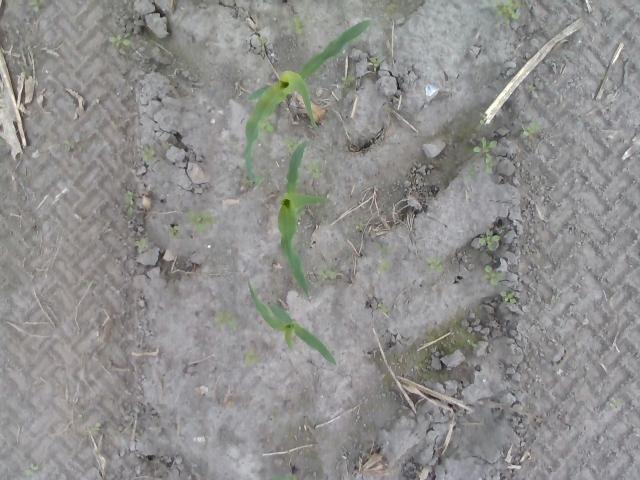Maize: (245, 18, 378, 186), (246, 278, 338, 367), (278, 142, 328, 304)
Weeds: (472, 138, 498, 176), (485, 0, 523, 25), (185, 212, 218, 236), (482, 265, 503, 290), (217, 313, 243, 332), (478, 232, 502, 250), (110, 34, 132, 53), (522, 121, 540, 141), (428, 257, 446, 277), (126, 190, 135, 218), (22, 464, 40, 478), (316, 270, 339, 280), (308, 164, 322, 179), (292, 18, 305, 34), (502, 292, 518, 305), (135, 240, 148, 256), (378, 261, 392, 275), (246, 352, 258, 368), (284, 140, 300, 152), (86, 423, 102, 434), (369, 56, 382, 69), (612, 399, 627, 410), (142, 147, 153, 162), (343, 75, 357, 86), (169, 224, 180, 237), (478, 113, 487, 127), (64, 139, 72, 152), (30, 1, 43, 8), (379, 305, 389, 314), (162, 141, 172, 150), (550, 295, 560, 303), (529, 84, 535, 93), (76, 412, 83, 418)
